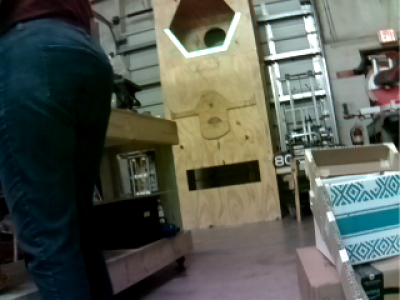target: (165, 12, 240, 58)
